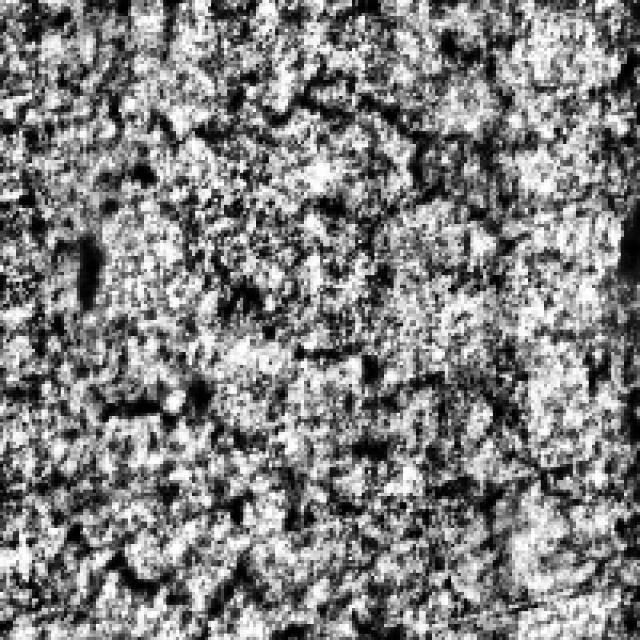Pitted_Surface: (131, 19, 560, 266), (19, 307, 512, 464), (10, 490, 292, 624)
